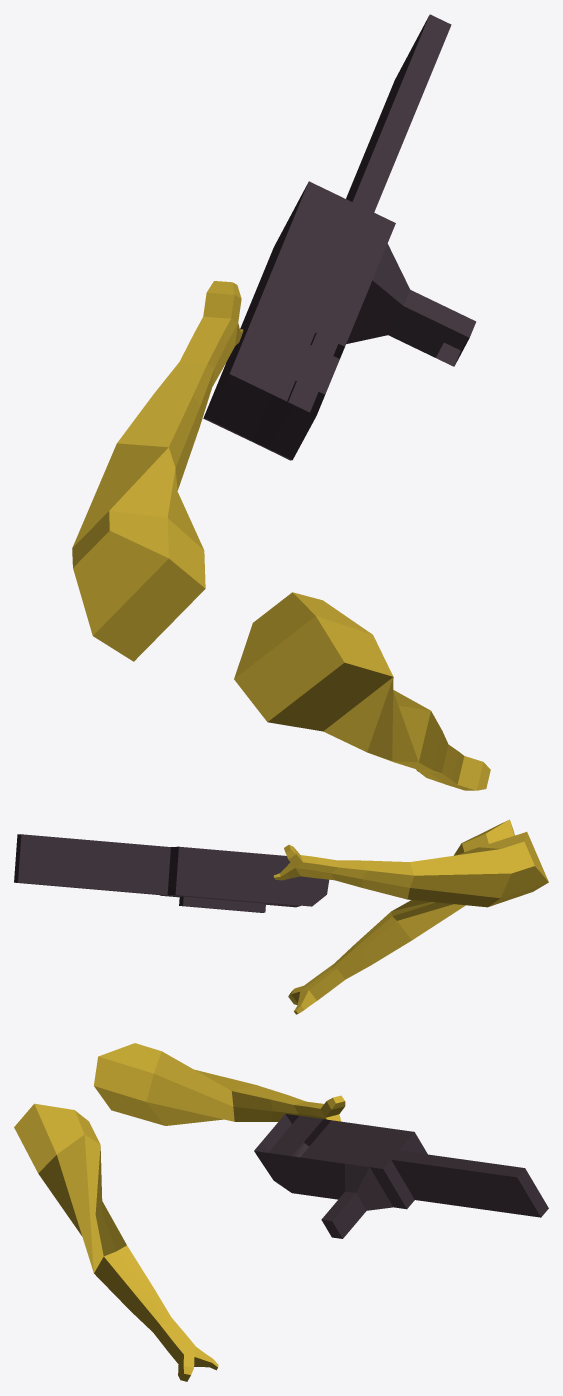
Rendered from arme_000252.obj.
The picture shows the model from 3 angles, top to bottom: view 1: azimuth 30°, elevation 25°; view 2: azimuth 150°, elevation 25°; view 3: azimuth 270°, elevation 25°; orthographic projection. The views are drawn at different scales.
Visible parts, largest first — view 1: Cube.048_Cube.024, Cube.046_Cube.010; view 2: Cube.048_Cube.024, Cube.046_Cube.010; view 3: Cube.048_Cube.024, Cube.046_Cube.010.
Boxes of the visible parts, x1,y1,x2,y2 form: Cube.048_Cube.024: (72, 281, 490, 790); Cube.046_Cube.010: (203, 14, 476, 460); Cube.048_Cube.024: (273, 819, 548, 1014); Cube.046_Cube.010: (14, 834, 329, 912); Cube.048_Cube.024: (14, 1043, 345, 1381); Cube.046_Cube.010: (254, 1114, 548, 1238).
Size of the model in its own units: 1871 by 1249 by 2143.
